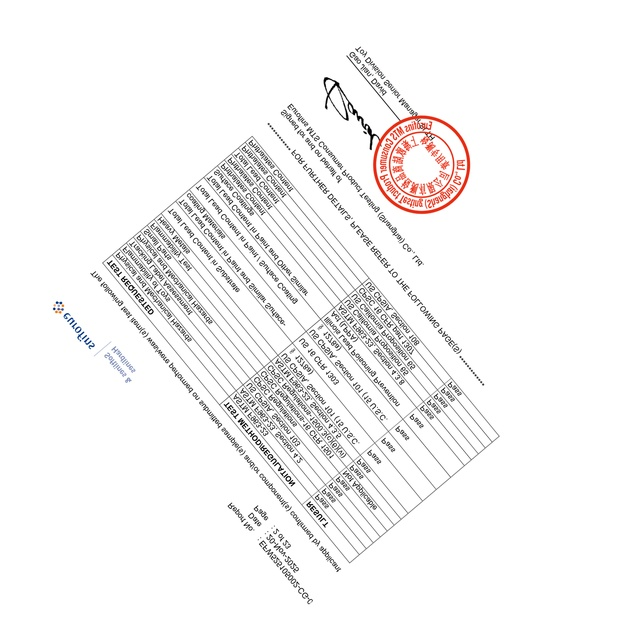eurofins: (51, 296, 96, 355)
